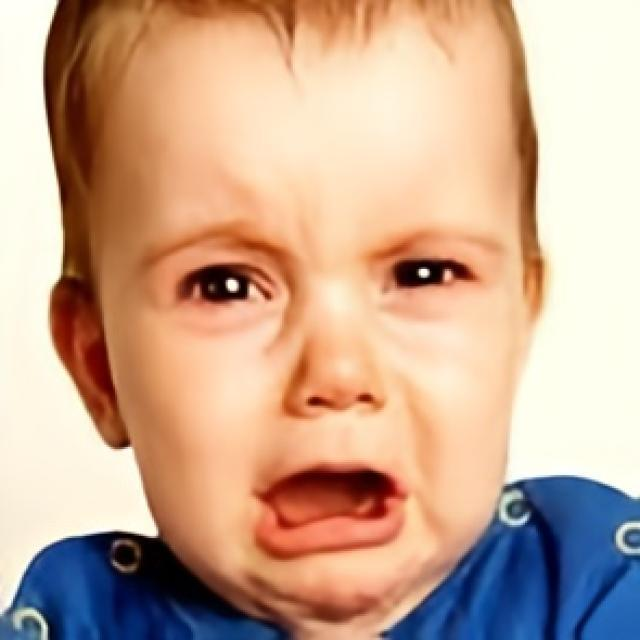sad: (91, 1, 526, 622)
